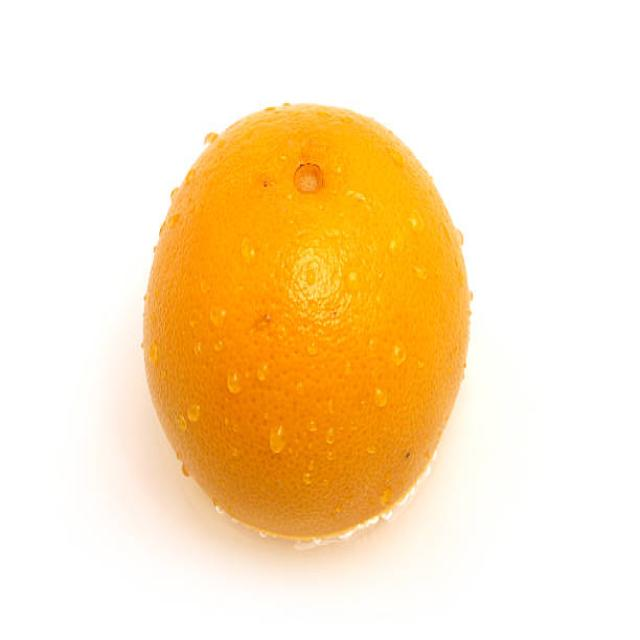Ripe: (138, 94, 478, 544)
